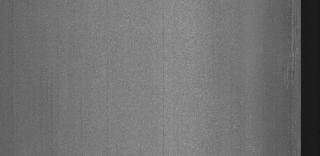silk spot: (272, 32, 298, 88)
